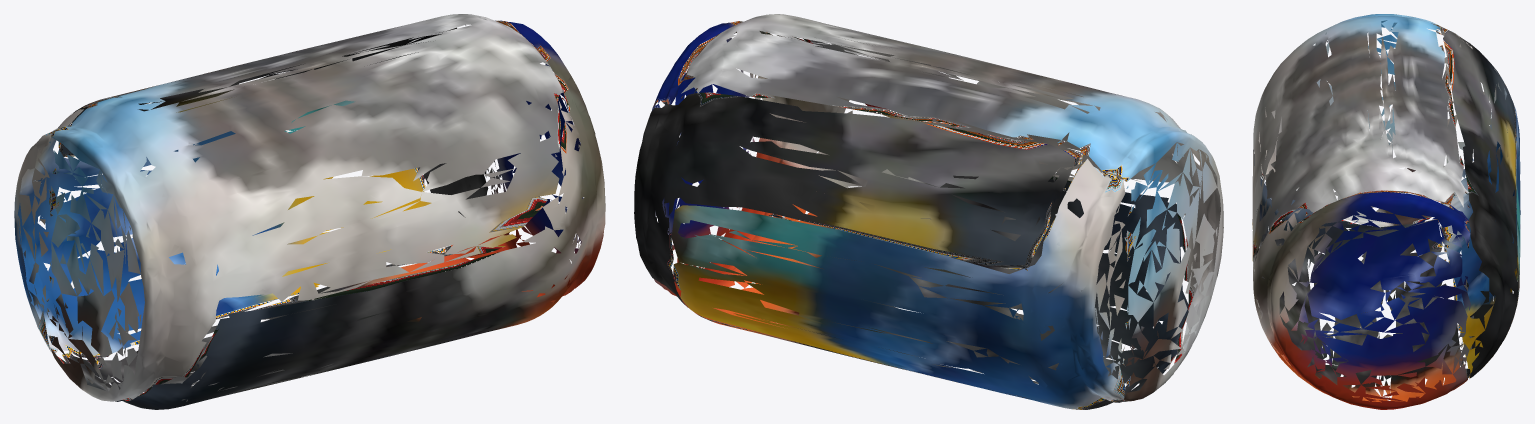
The model's file is metall-dose.glb.
3 views of the same model, side by side, from view 1: azimuth 30°, elevation 25°; view 2: azimuth 150°, elevation 25°; view 3: azimuth 270°, elevation 25° (orthographic). The views are drawn at different scales.
Parts seen in each view (by area): view 1: metall-dose; view 2: metall-dose; view 3: metall-dose.
Part boxes in pixels (left/top/right/bottom): metall-dose: left=14, top=14, right=605, bottom=409; metall-dose: left=634, top=14, right=1223, bottom=409; metall-dose: left=1252, top=14, right=1520, bottom=409.
Size of the model in its own units: 0.1239 by 0.0745 by 0.0745.
1 material, 1 textured.
